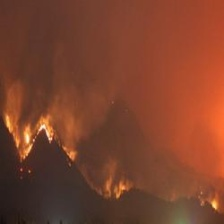fire: (3, 104, 57, 161), (102, 171, 131, 198), (209, 197, 220, 210)
